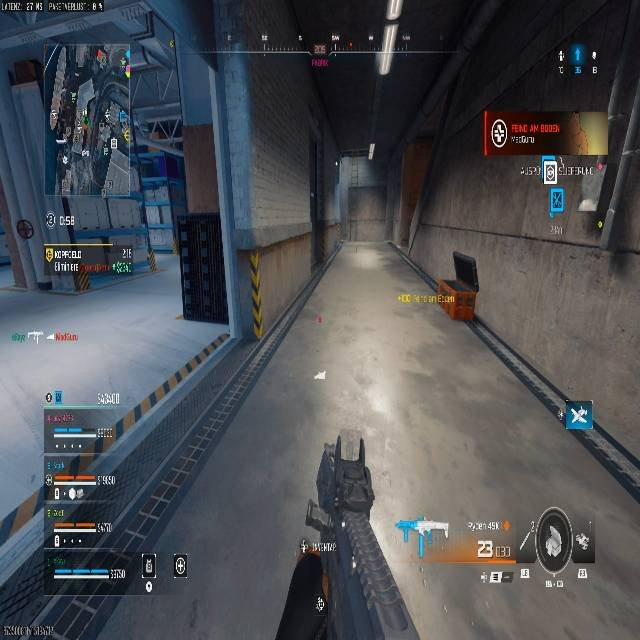player: (147, 248, 157, 272)
